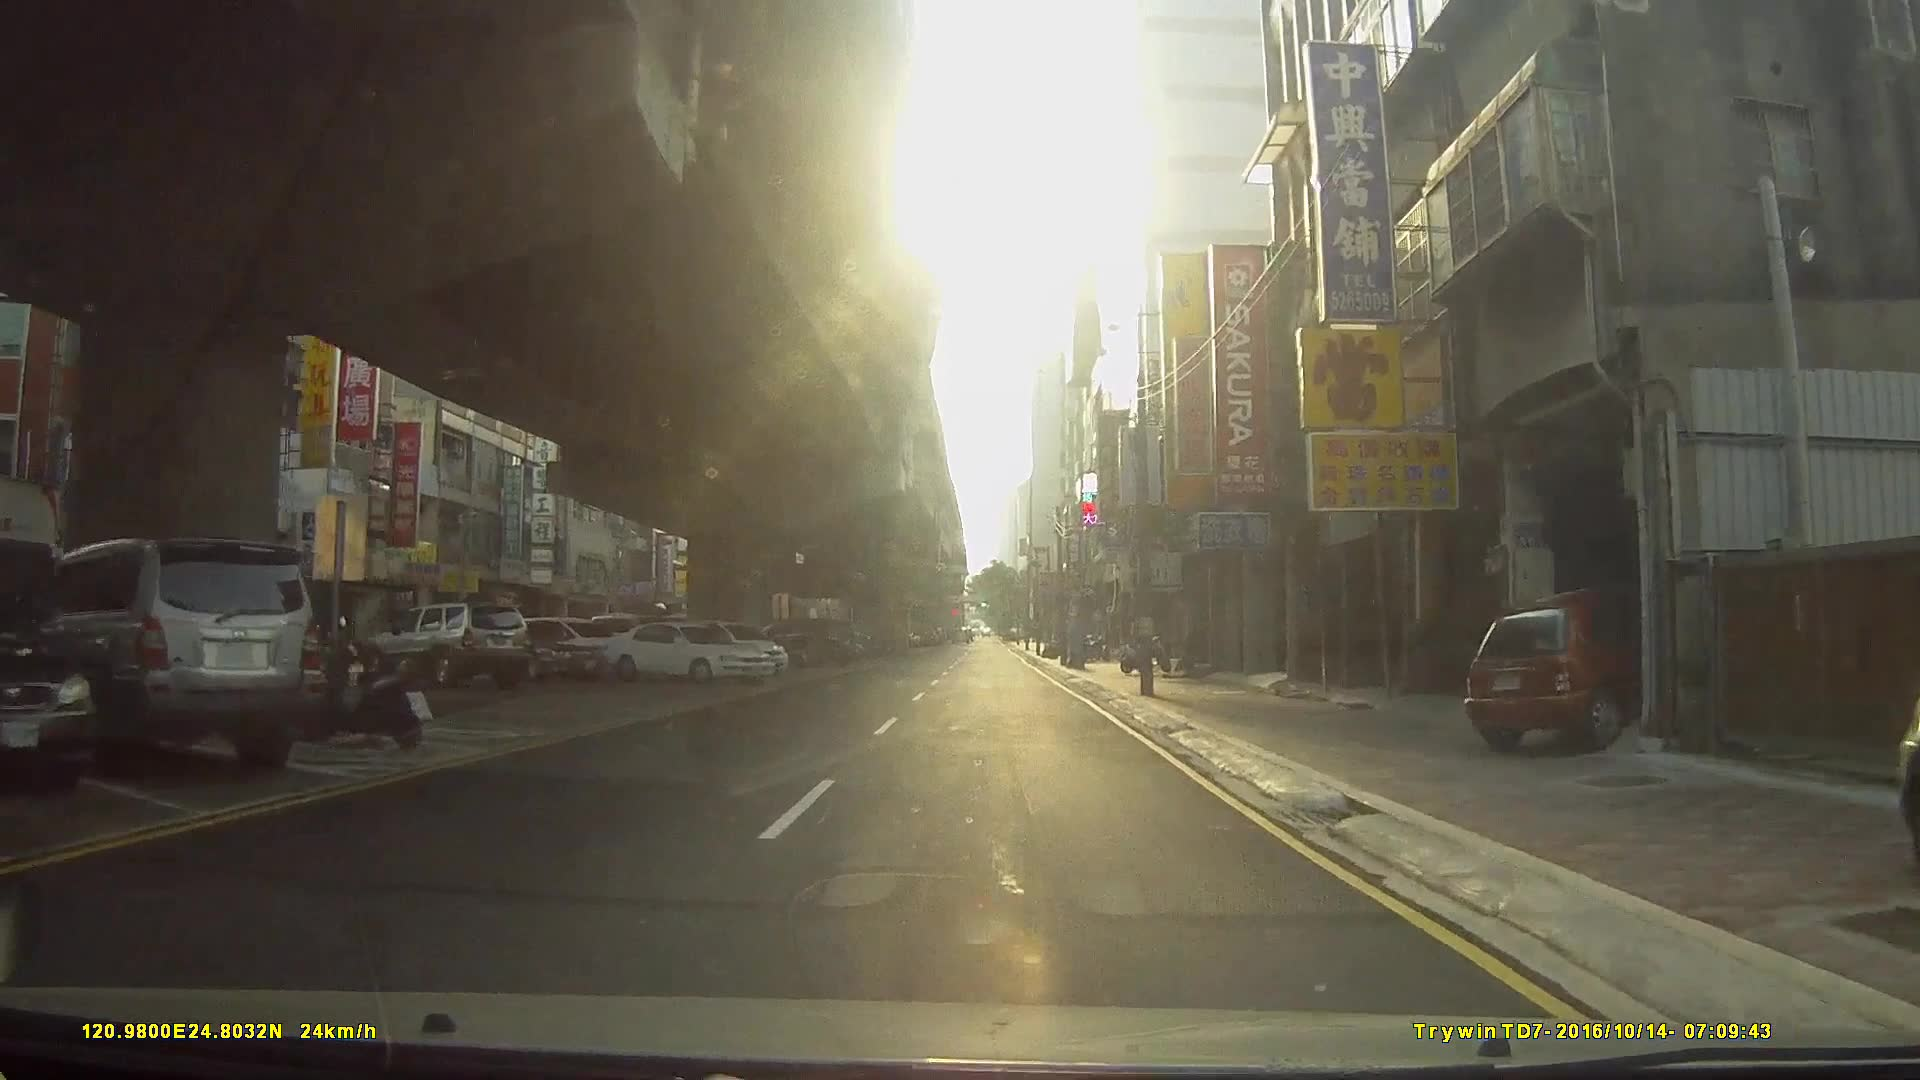vehicle: (18, 538, 324, 775), (1462, 582, 1680, 752), (0, 601, 98, 791), (360, 599, 530, 684), (431, 618, 603, 684), (601, 622, 777, 684)
